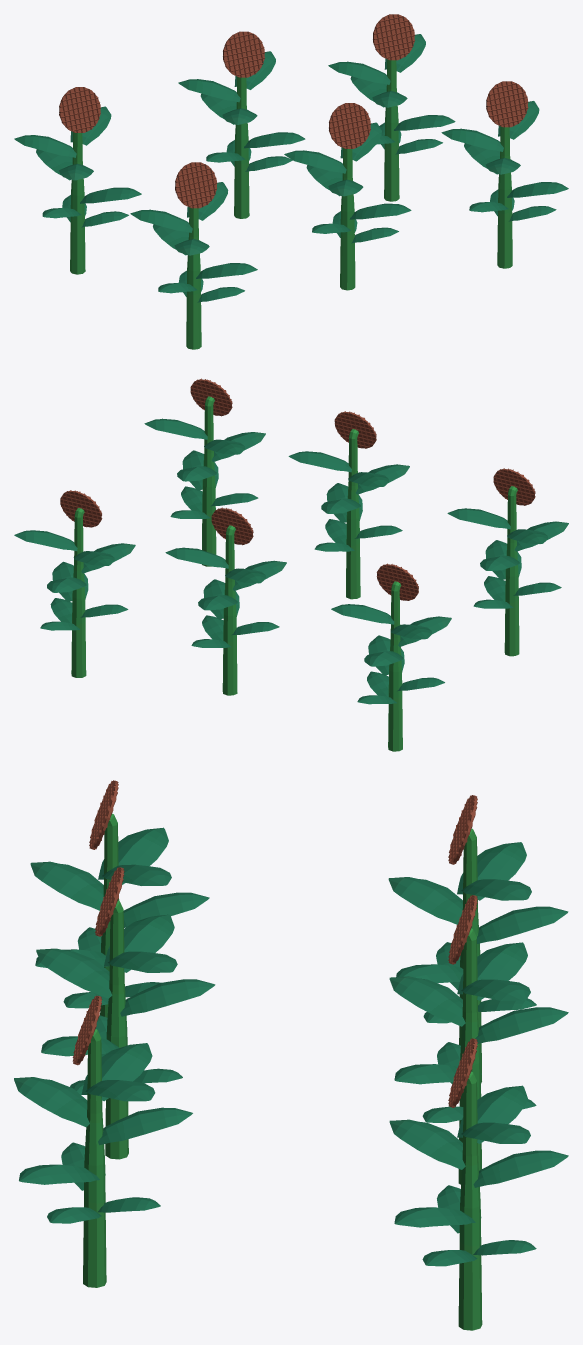
File: grote plantjes.fbx
3 renders of one model, top to bottom at view 1: azimuth 30°, elevation 25°; view 2: azimuth 150°, elevation 25°; view 3: azimuth 270°, elevation 25°, orthographic. The views are drawn at different scales.
Parts seen in each view (by area): view 1: Plane.048, Plane.042, Plane.045, Plane.044, Plane.043, Plane.026; view 2: Plane.042, Plane.026, Plane.048, Plane.043, Plane.045, Plane.044; view 3: Plane.044, Plane.026, Plane.043, Plane.045, Plane.048, Plane.042.
Boxes of the visible parts, x1=… form: Plane.048: x1=14, y1=87, x2=141, y2=274; Plane.042: x1=130, y1=162, x2=257, y2=349; Plane.045: x1=178, y1=31, x2=305, y2=218; Plane.044: x1=441, y1=81, x2=568, y2=268; Plane.043: x1=284, y1=103, x2=411, y2=290; Plane.026: x1=328, y1=14, x2=455, y2=201; Plane.042: x1=447, y1=468, x2=568, y2=656; Plane.026: x1=14, y1=490, x2=135, y2=677; Plane.048: x1=331, y1=563, x2=451, y2=751; Plane.043: x1=288, y1=411, x2=409, y2=599; Plane.045: x1=165, y1=507, x2=286, y2=695; Plane.044: x1=144, y1=378, x2=265, y2=566; Plane.044: x1=14, y1=995, x2=192, y2=1287; Plane.026: x1=389, y1=1038, x2=568, y2=1330; Plane.043: x1=36, y1=867, x2=215, y2=1159; Plane.045: x1=389, y1=895, x2=568, y2=1184; Plane.048: x1=388, y1=795, x2=568, y2=1083; Plane.042: x1=30, y1=780, x2=209, y2=1017.
Size of the model in its own units: 1.94 by 0.9826 by 1.47.
